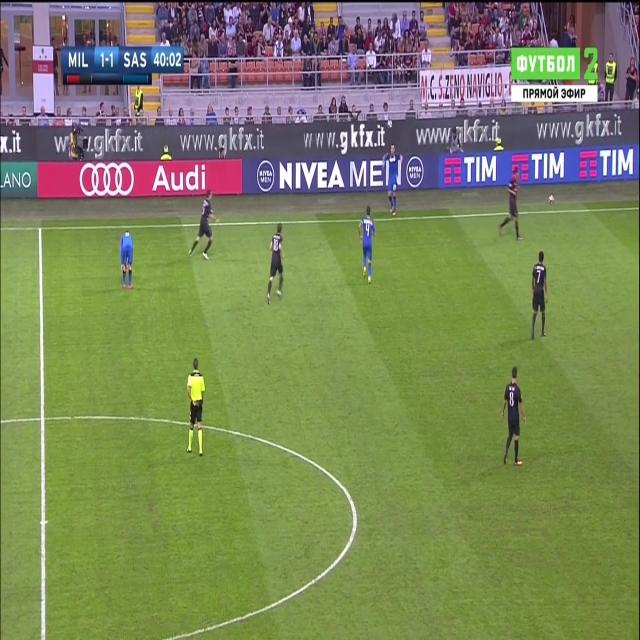Ball: (546, 189, 557, 208)
Player: (499, 366, 529, 470), (184, 190, 221, 262), (494, 167, 525, 242), (528, 249, 550, 344), (265, 222, 287, 305), (357, 208, 377, 284), (382, 146, 402, 220), (118, 230, 137, 294)
Referee: (184, 358, 208, 457)
